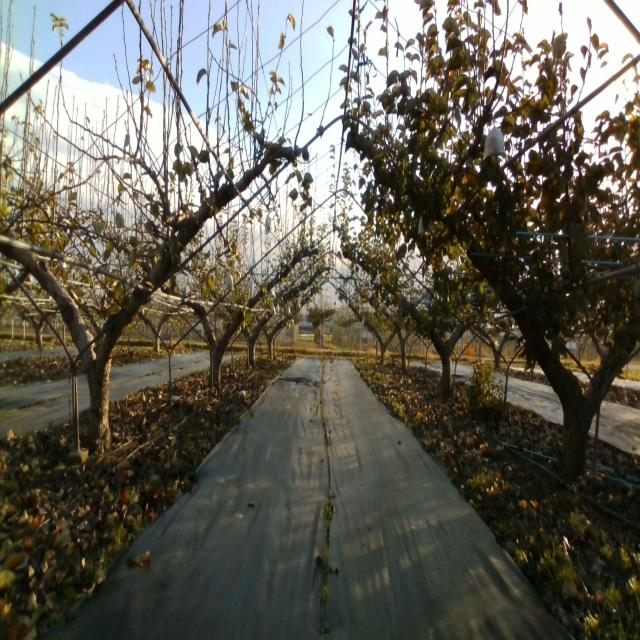pearbags: (479, 115, 506, 161), (223, 270, 235, 292)
